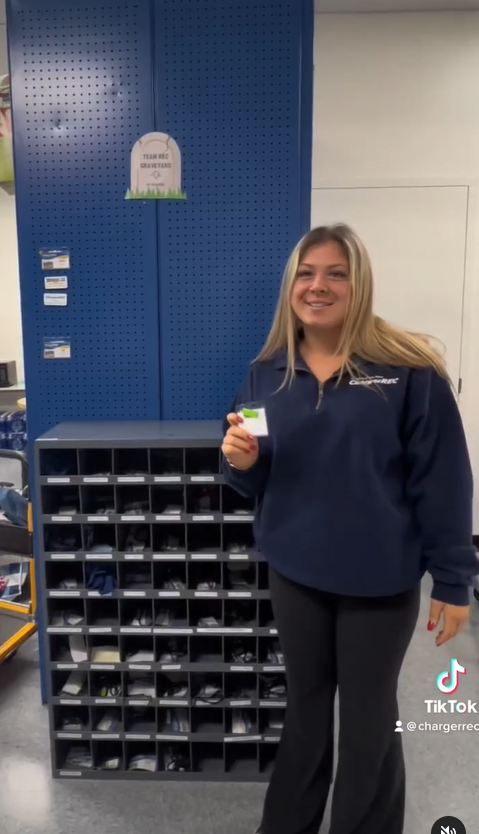Staff: (214, 207, 452, 475)
